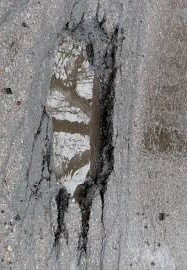pothole: (33, 19, 126, 243)
